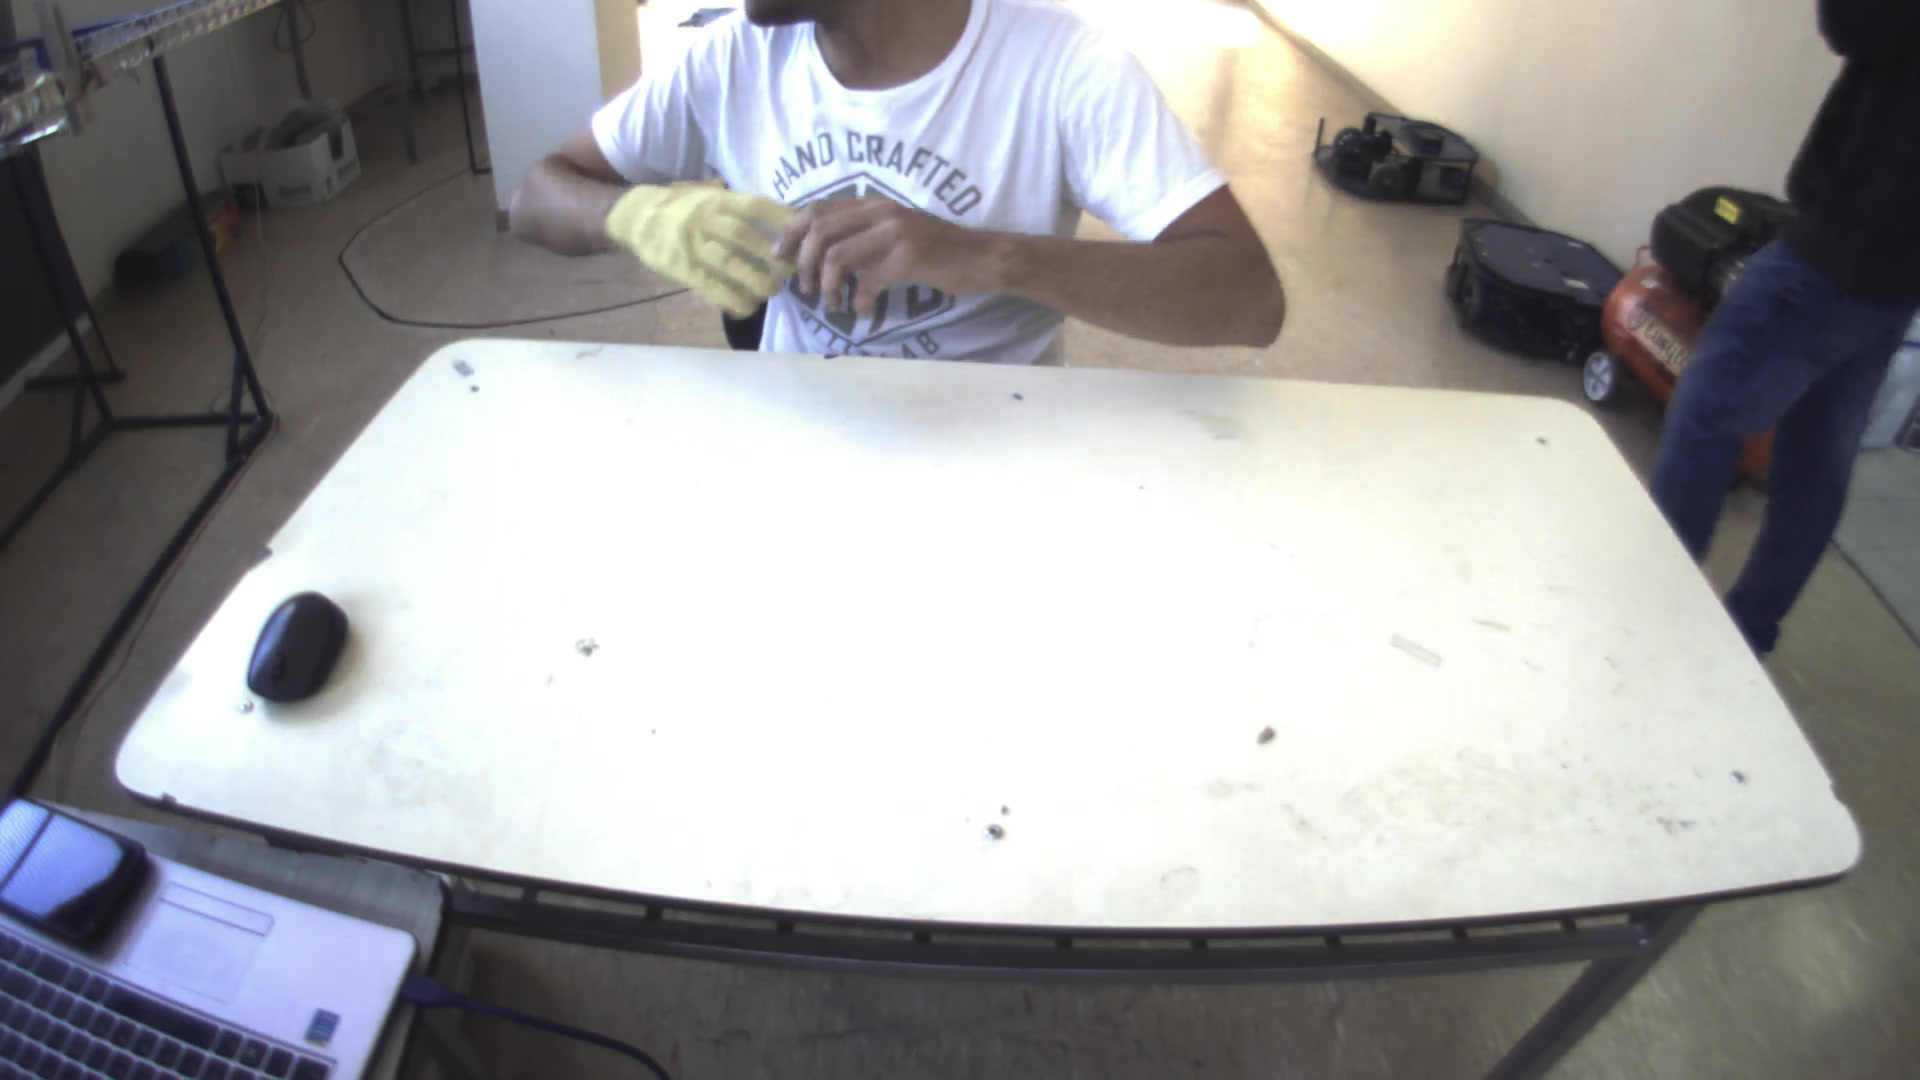hand: (592, 156, 796, 307), (790, 182, 960, 323)
